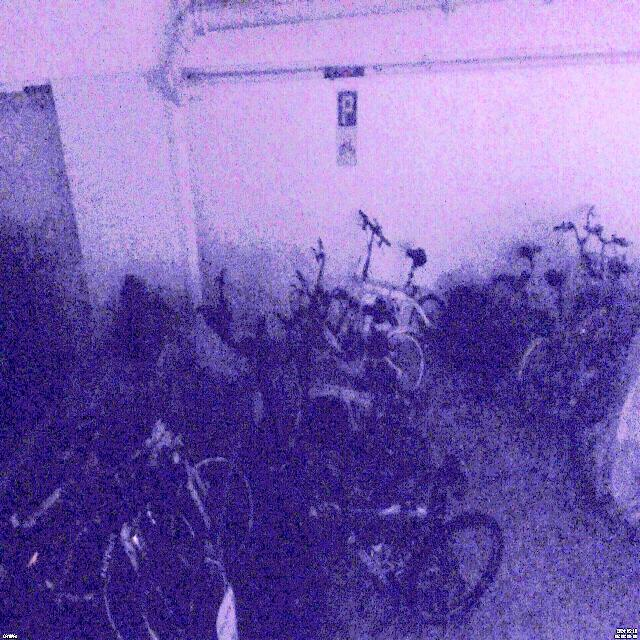bike: (333, 208, 449, 357)
